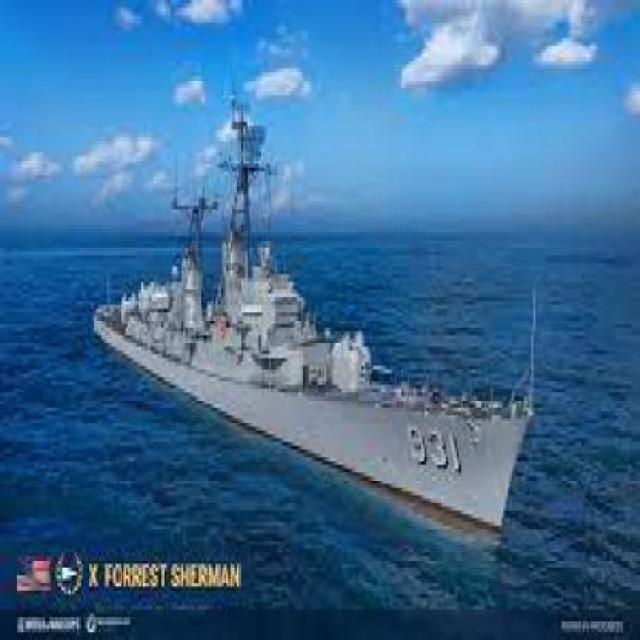warship2: (84, 81, 546, 553)
